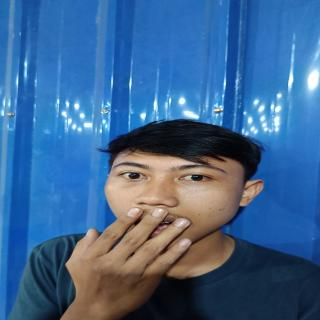Takut: (101, 145, 254, 251)
